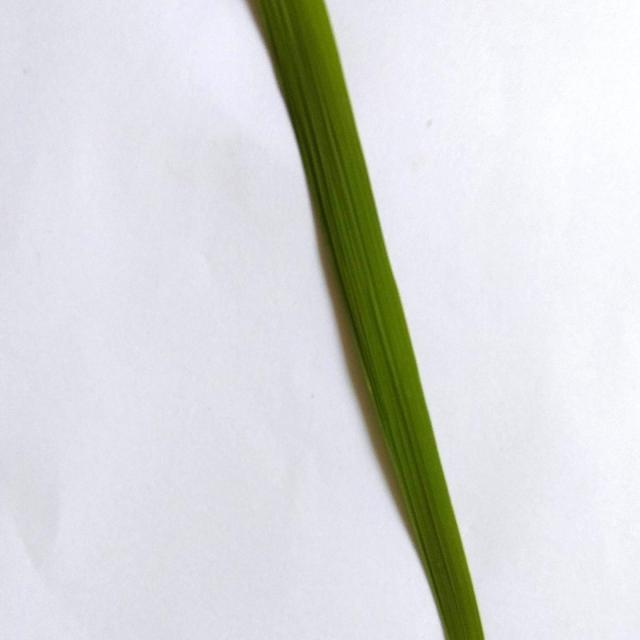healthy: (185, 1, 562, 639)
